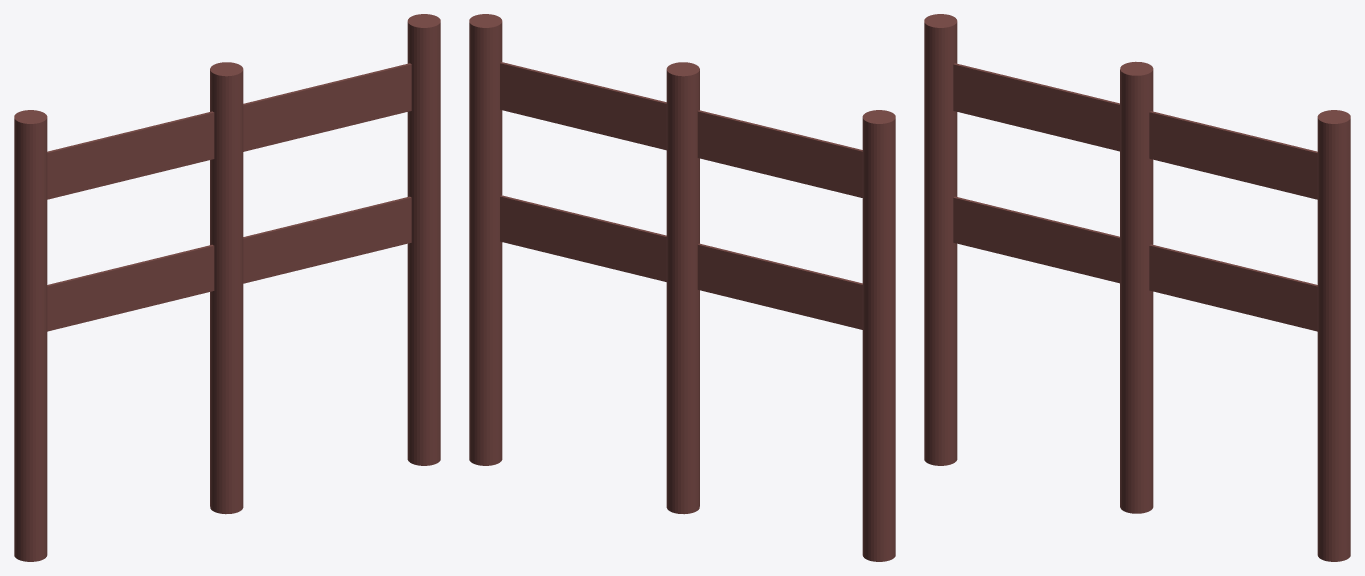
The model's file is fence1.glb.
3 views of the same model, side by side, from view 1: azimuth 30°, elevation 25°; view 2: azimuth 150°, elevation 25°; view 3: azimuth 330°, elevation 25° (orthographic).
Visible parts, largest first — view 1: Cylinder; view 2: Cylinder; view 3: Cylinder.
Part boxes in pixels (<box>): Cylinder: <box>14,14,440,561</box>; Cylinder: <box>469,14,895,561</box>; Cylinder: <box>924,14,1350,561</box>.
Size of the model in its own units: 0.995 by 0.9861 by 0.0678.
